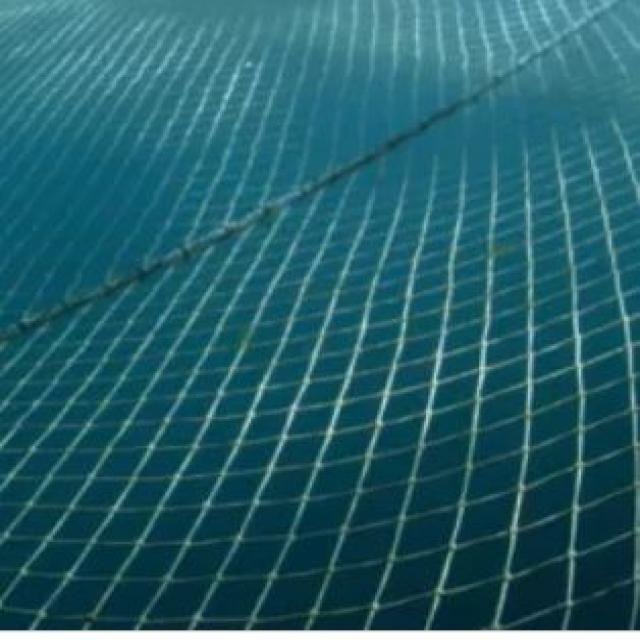fence line: (3, 1, 637, 627)
